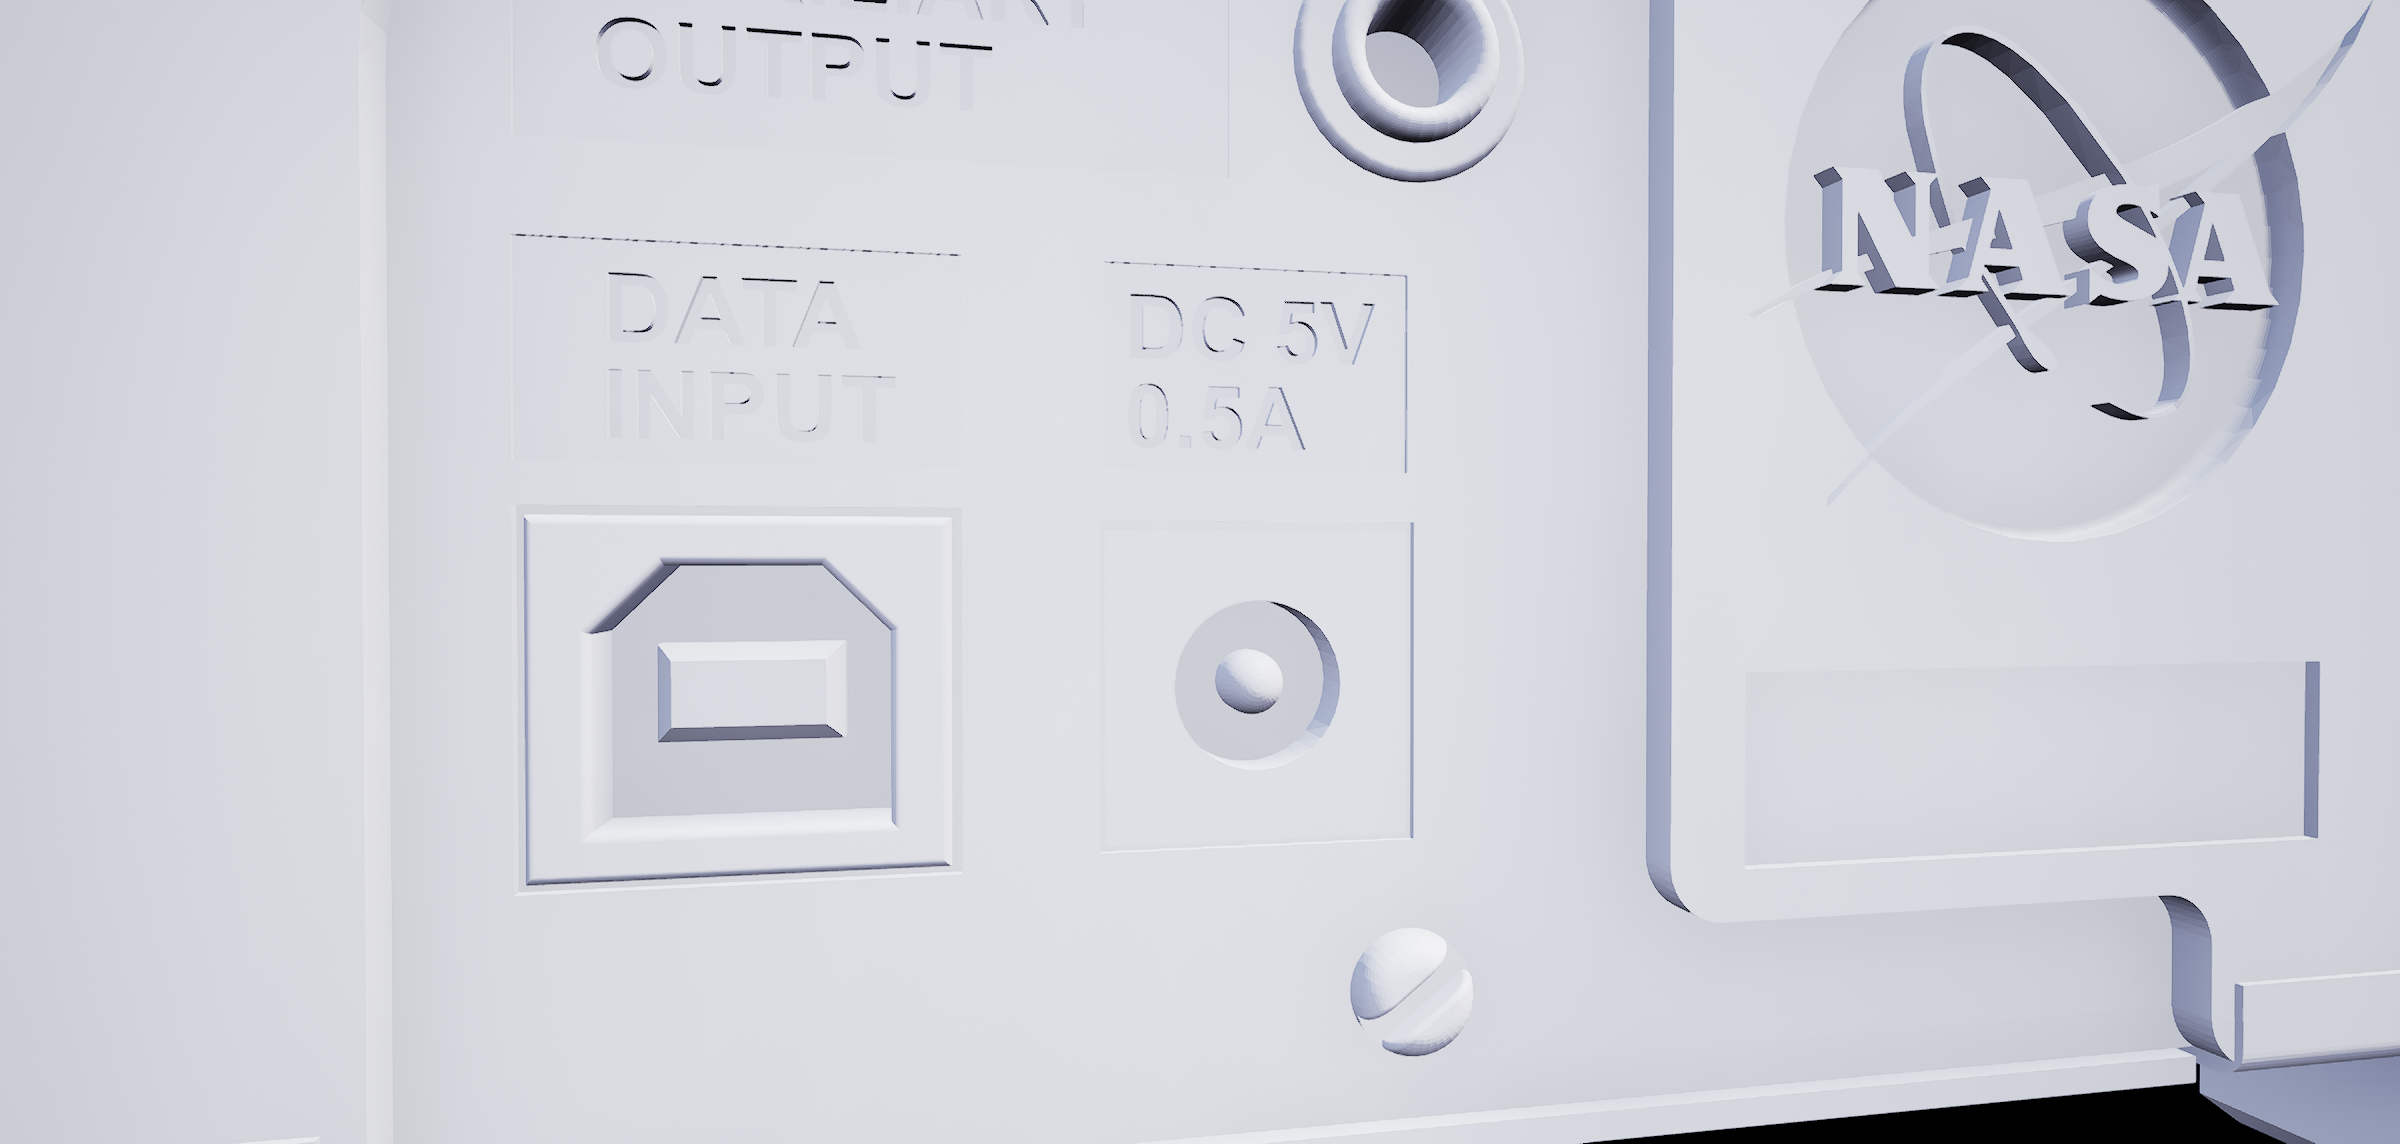aux: (1281, 2, 1537, 193)
dc: (1162, 573, 1361, 796)
usb: (582, 542, 915, 862)
